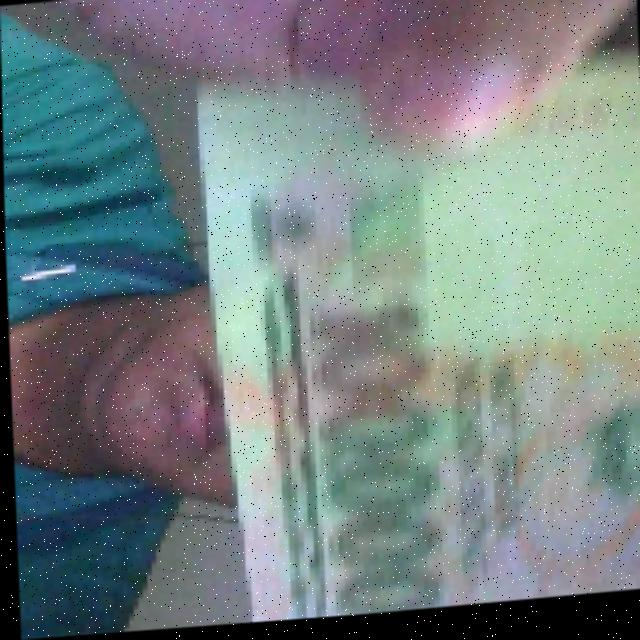100 000 VND: (199, 45, 640, 628)
